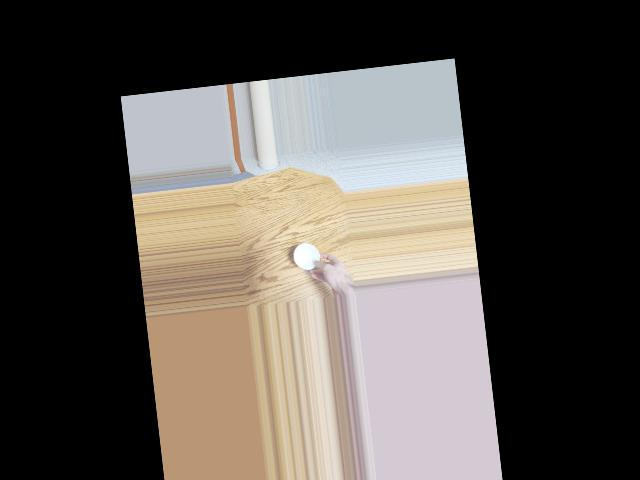cotage: (290, 241, 321, 272)
